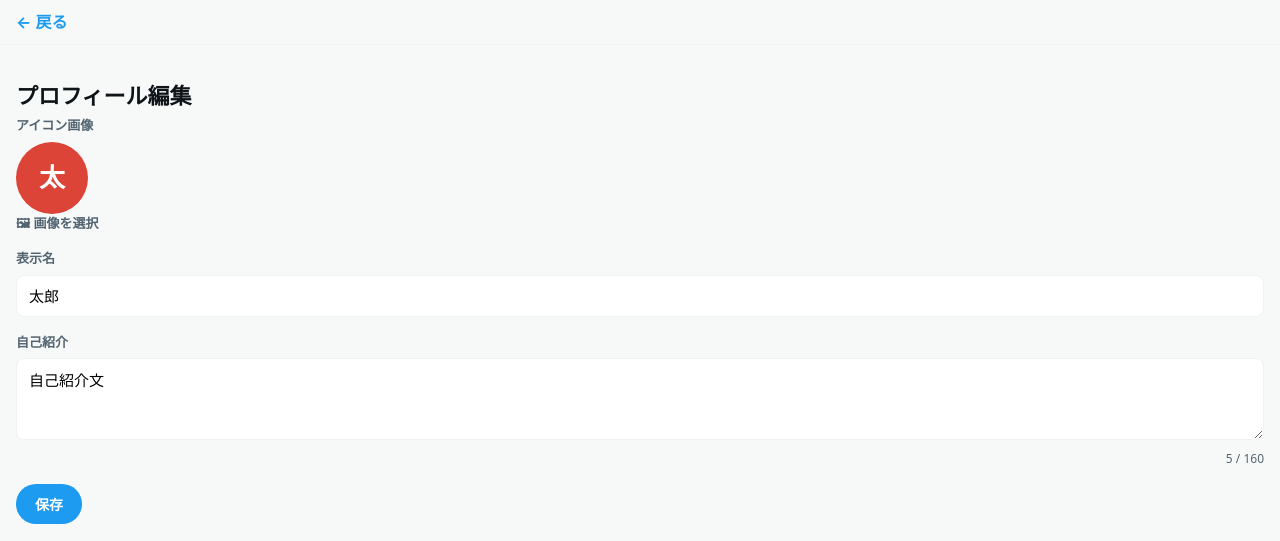
ProfileEditPage › disables save when the display name is blank
This screenshot has width=1280, height=541.
Clear the field showing "太郎" at (640, 296), box [16,275,1264,317]
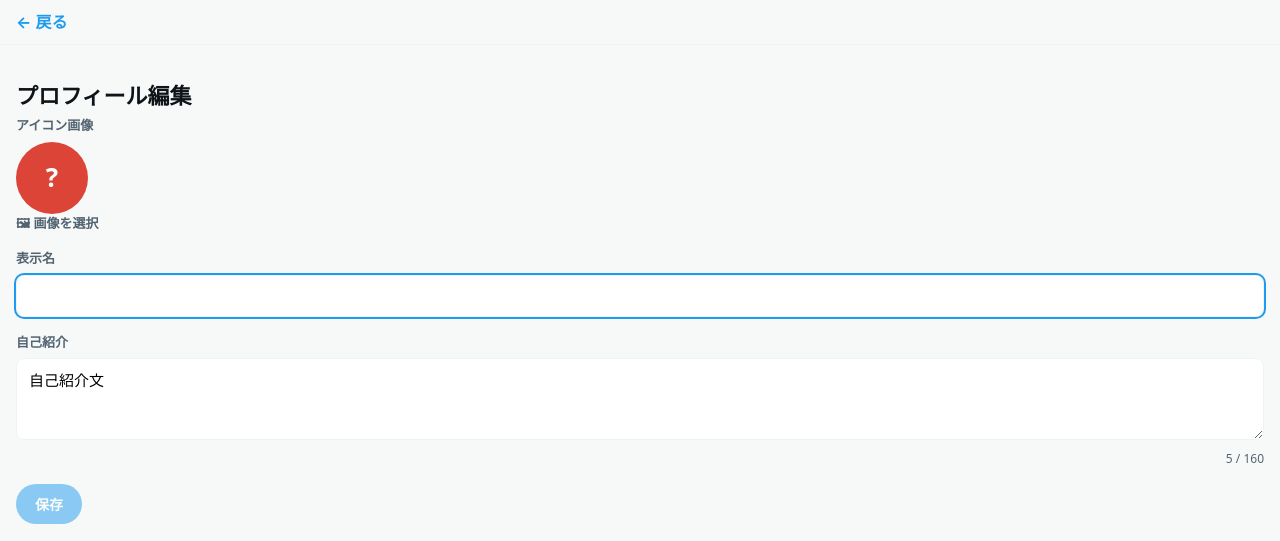
Now the button "保存" is disabled, box [16,484,82,524]
